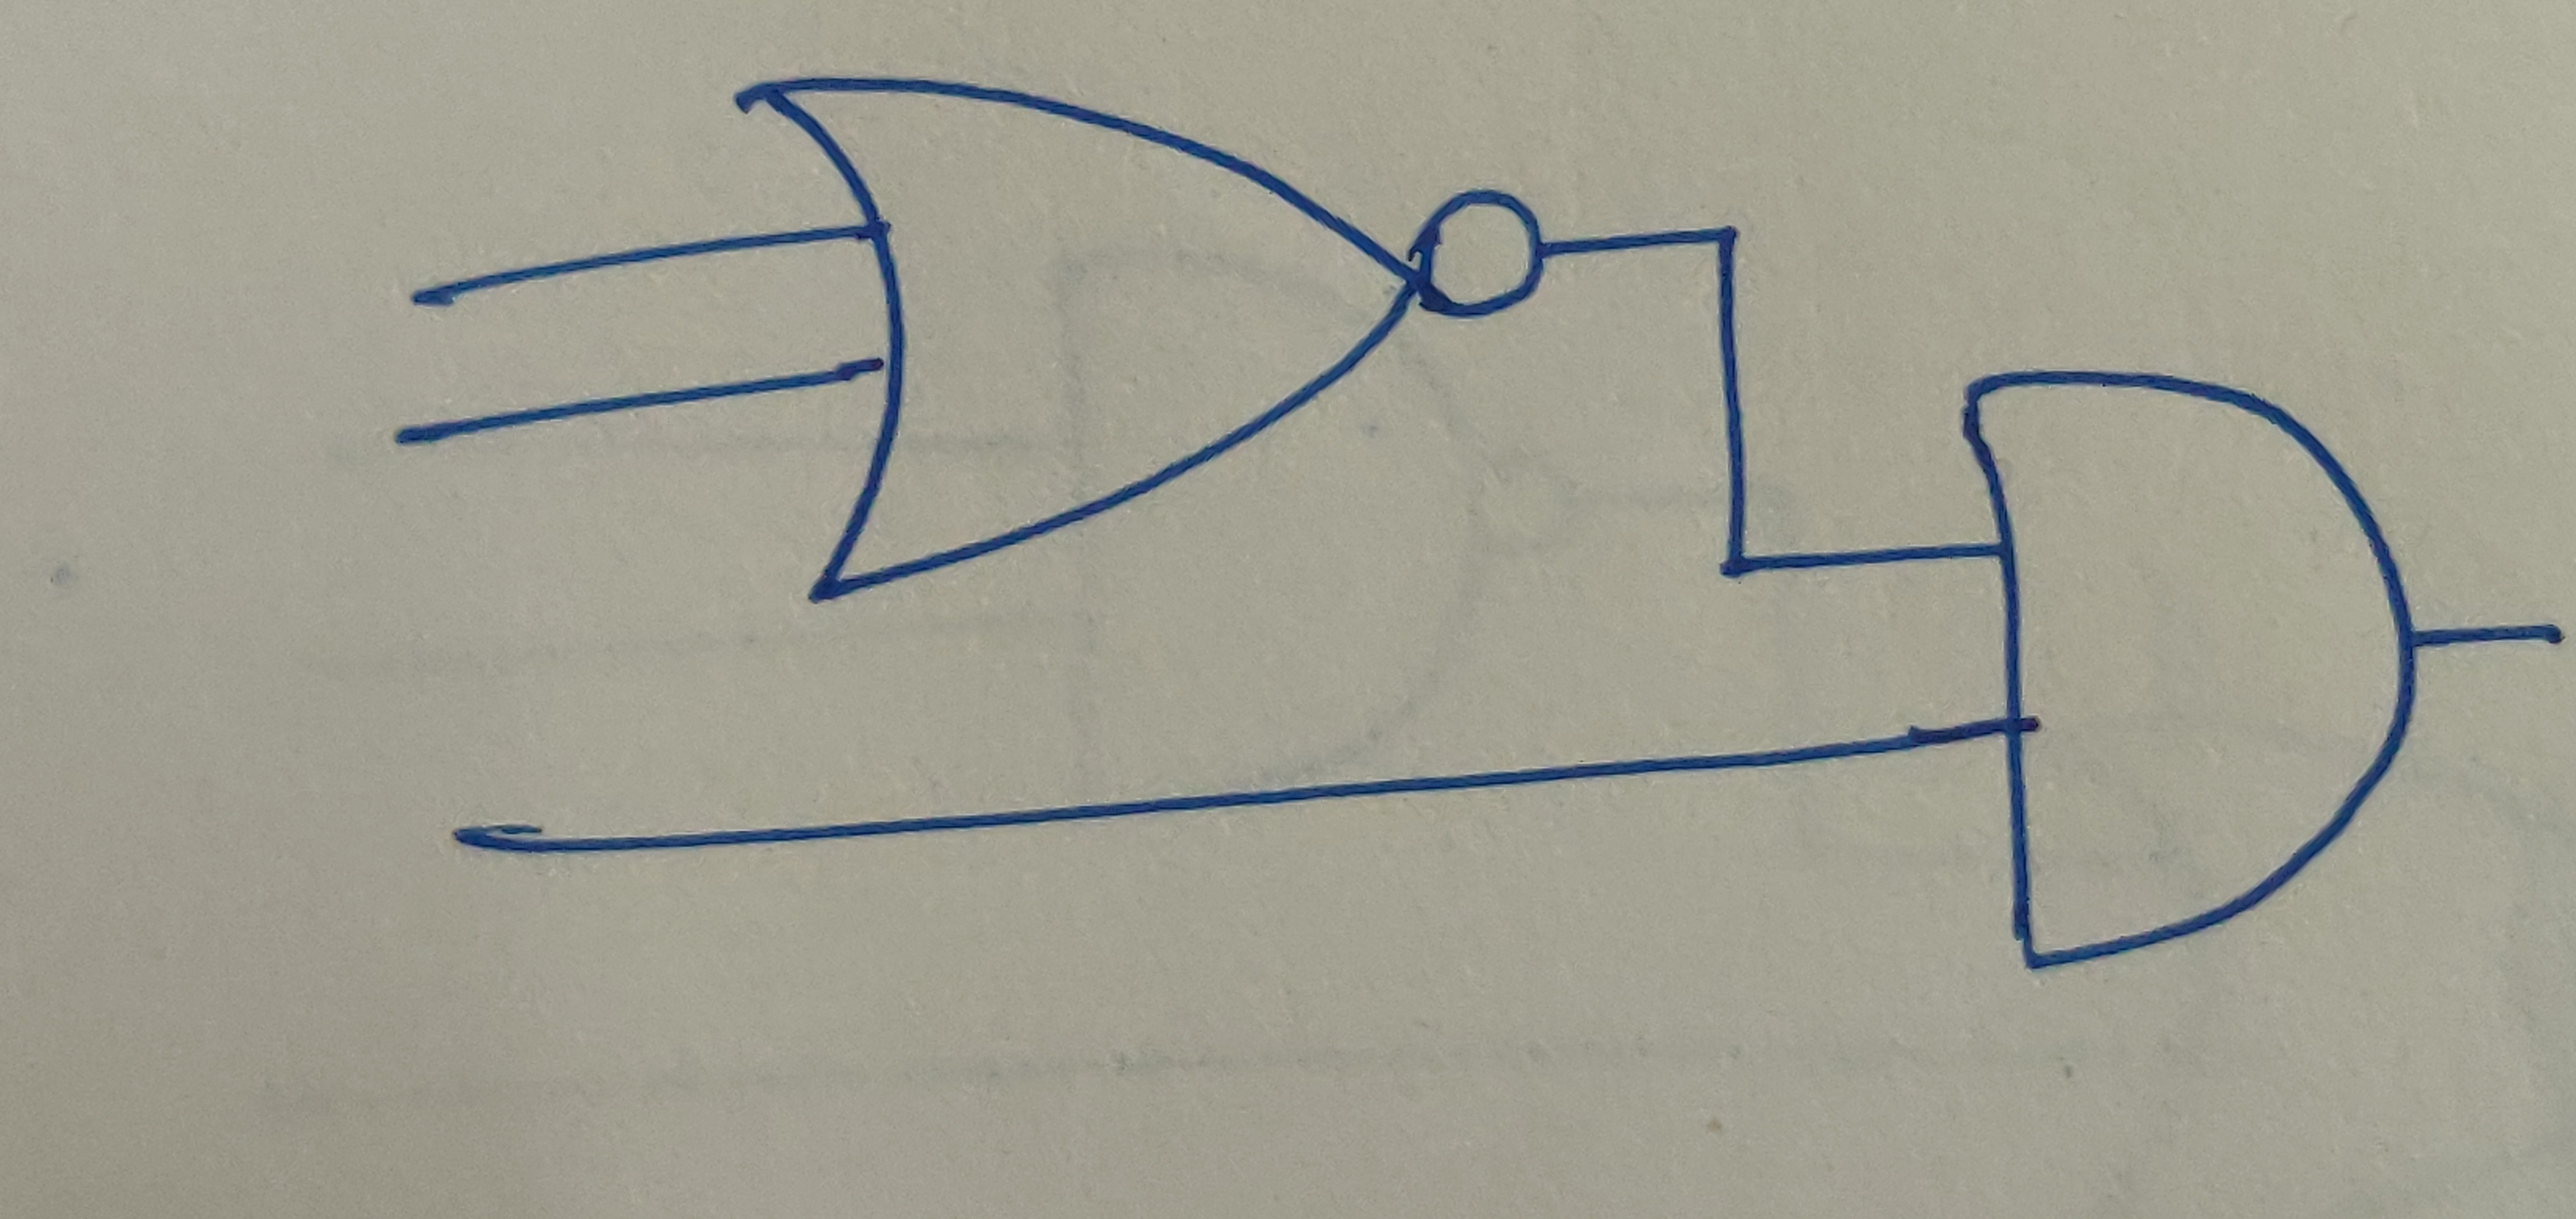and: (1963, 361, 2422, 976)
or: (734, 72, 1423, 606), (1426, 191, 1551, 325)
